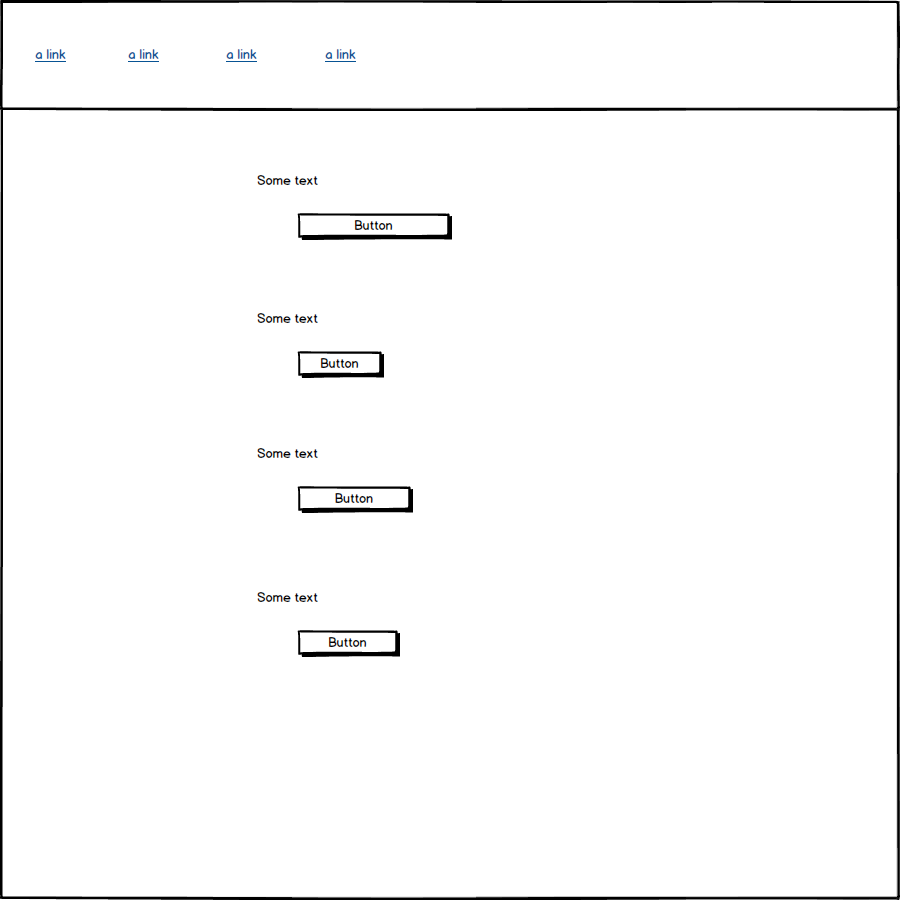button: (293, 208, 457, 245), (292, 477, 424, 521), (294, 622, 408, 663), (294, 345, 393, 386)
label: (244, 438, 331, 466), (250, 303, 327, 333), (249, 586, 324, 612), (250, 167, 319, 195)
navlink: (224, 33, 267, 74), (116, 41, 168, 73), (308, 38, 359, 70), (27, 40, 74, 73)
